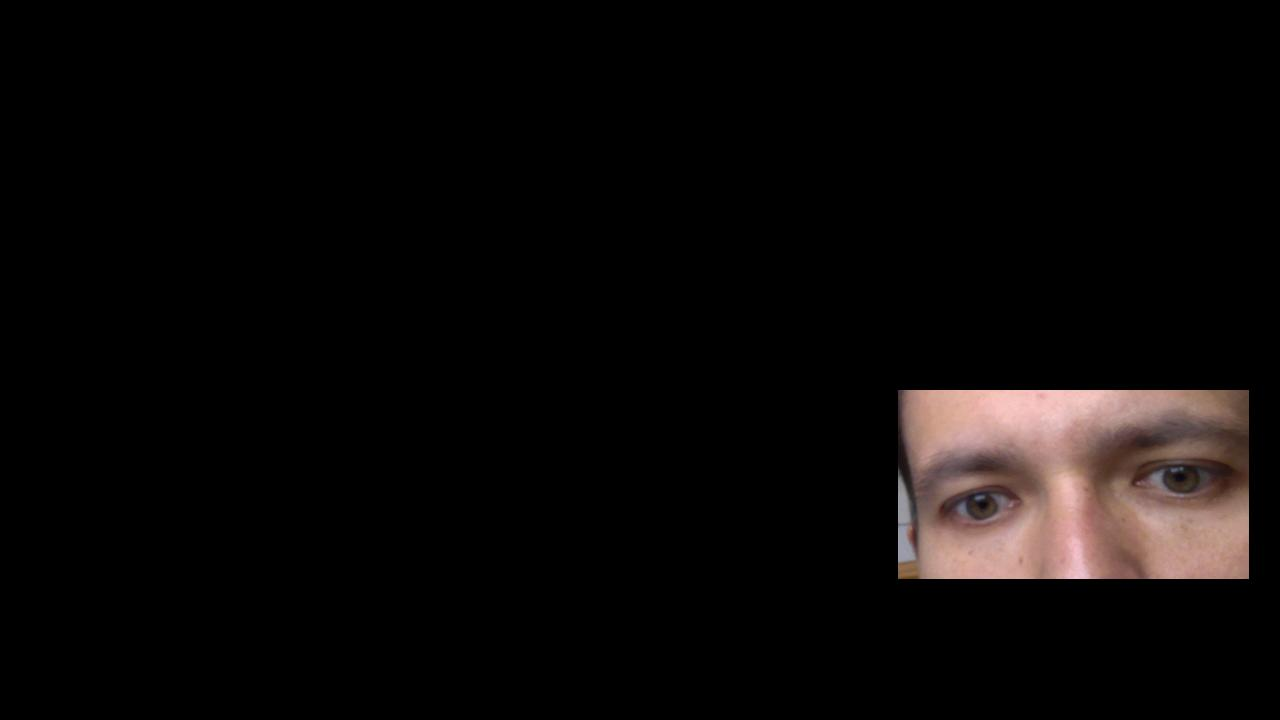eye: (1166, 465, 1199, 494), (969, 494, 998, 521)
